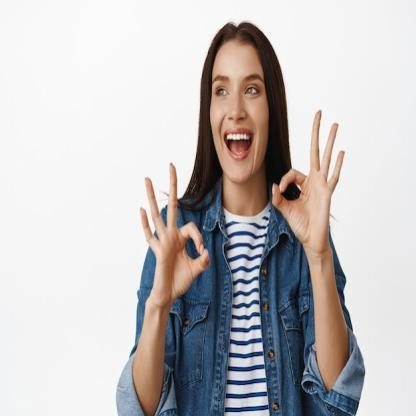ok: (269, 107, 346, 252), (136, 158, 211, 304)
